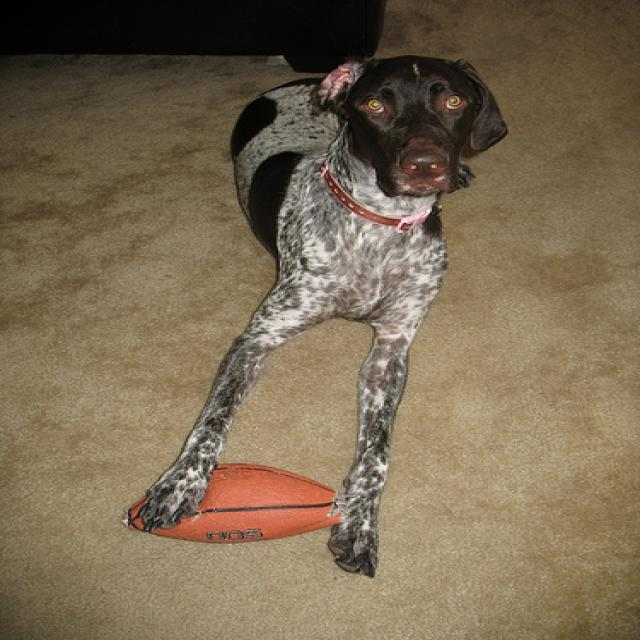dog-german_shorthaired: (121, 45, 517, 585)
